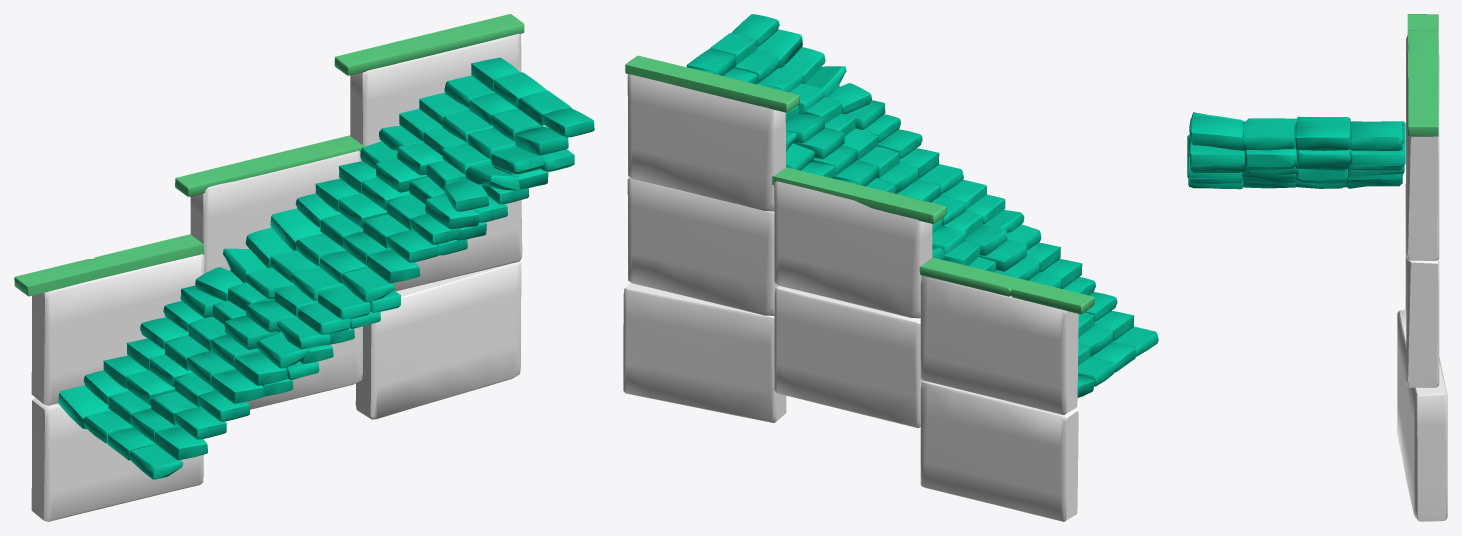
The model's file is stairs01_right.fbx.
The picture shows the model from 3 angles, left to right: view 1: azimuth 30°, elevation 25°; view 2: azimuth 150°, elevation 25°; view 3: azimuth 270°, elevation 25°; orthographic projection. The views are drawn at different scales.
Parts seen in each view (by area): view 1: basic_stairs_right; view 2: basic_stairs_right; view 3: basic_stairs_right.
Part boxes in pixels (left/top/right/bottom): basic_stairs_right: left=14, top=14, right=594, bottom=521; basic_stairs_right: left=623, top=14, right=1158, bottom=521; basic_stairs_right: left=1187, top=14, right=1447, bottom=521.
Size of the model in its own units: 10.49 by 7.69 by 4.27.
